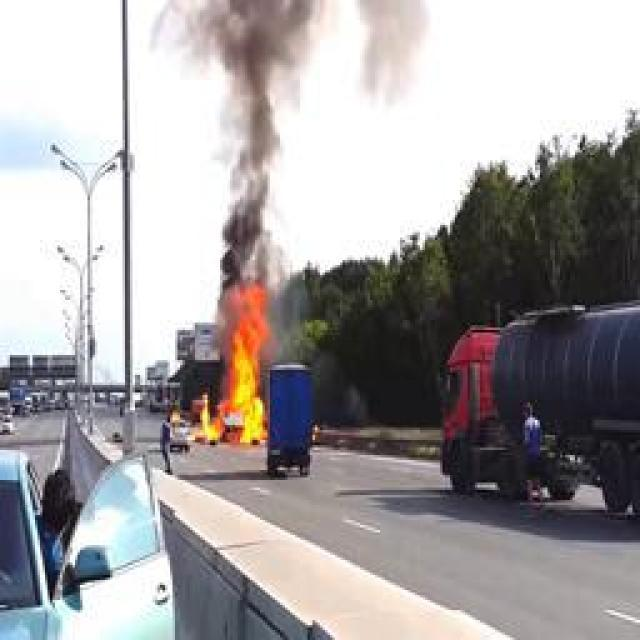Fire: (201, 280, 271, 445)
